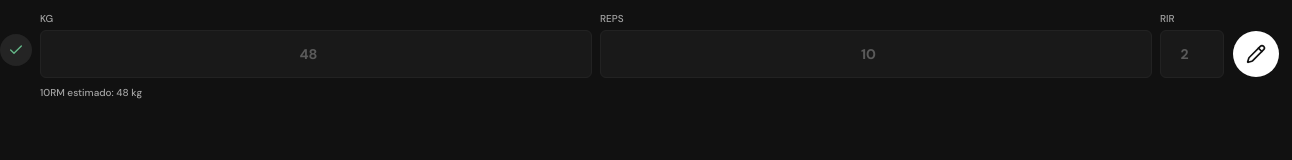
Test: RegistroSerie › corrige a série registrada pelo mesmo botão, sem reiniciar o descanso
The width and height of the screenshot is (1292, 160).
Check: the number field labelled "KG" is disabled, box [40,30,592,78]
Click the button named "Editar série 1". click: {"x": 1256, "y": 54}
box: [1232,30,1280,78]
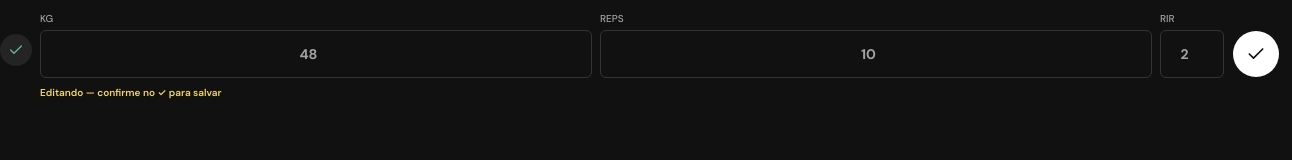
Check: the text "Editando — confirme no ✓ para salvar" is shown, box [40,86,222,99]
Check: the number field labelled "KG" is enabled
Replace the text in the number field labelled "KG" with "56". click: {"x": 316, "y": 54}
box: [40,30,592,78]
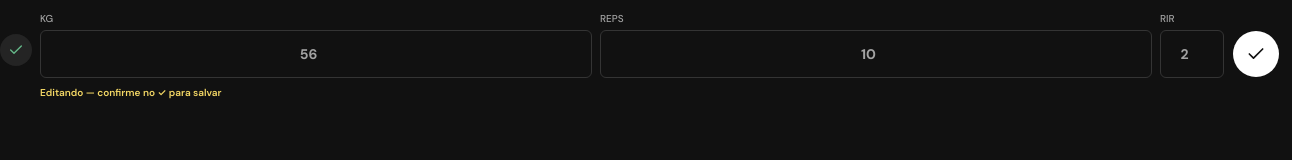
Click the button named "Salvar correção da série 1". click: {"x": 1256, "y": 54}
box: [1232,30,1280,78]
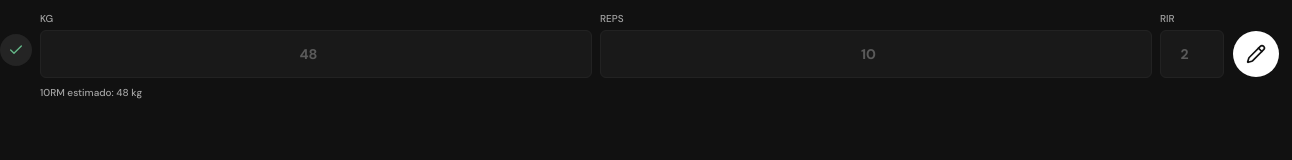
Check: the text "Editando — confirme no ✓ para salvar" is gone
